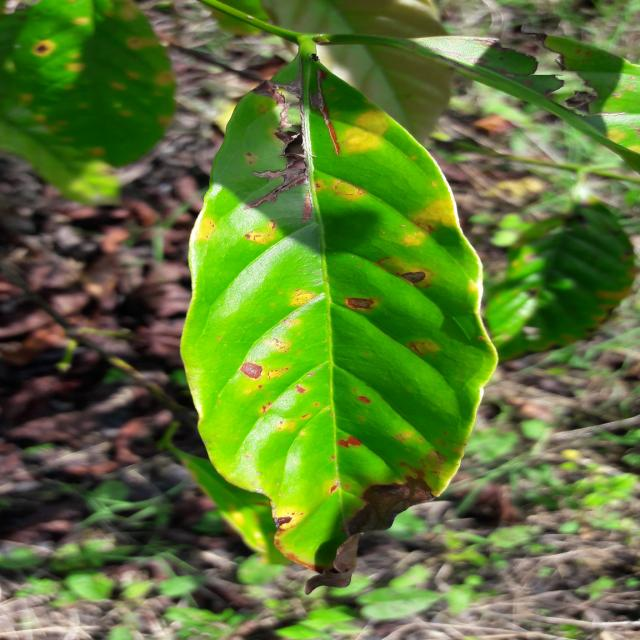Plaga-AranaRoja: (179, 38, 498, 574)
